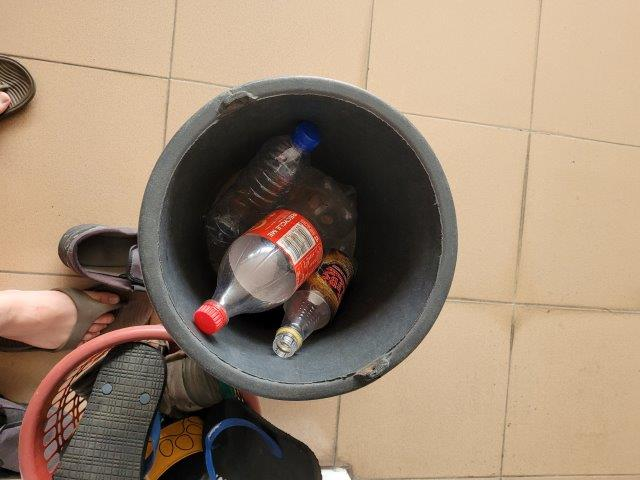botolplastik: (193, 172, 360, 333), (202, 120, 320, 244), (266, 250, 360, 358)
